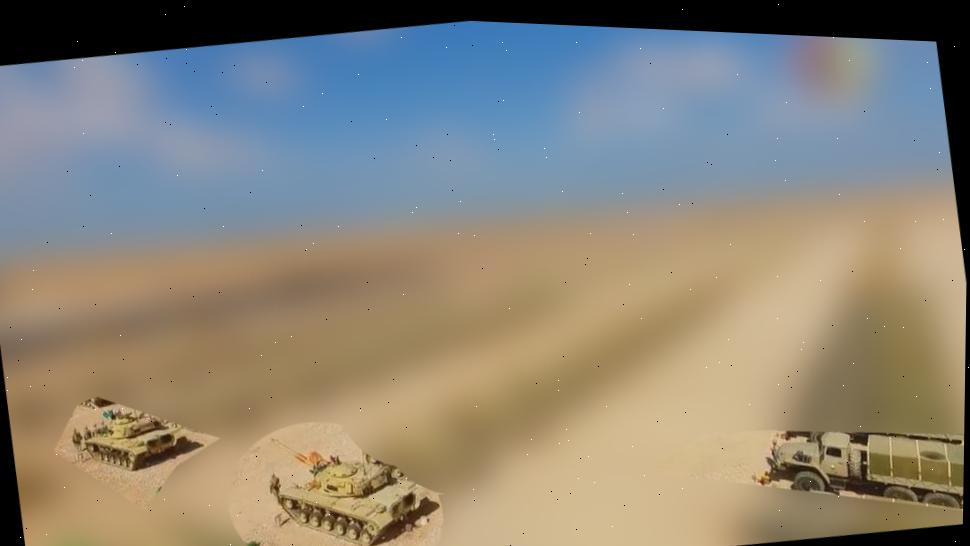tank: (258, 410, 443, 546), (65, 387, 195, 482)
truck: (753, 400, 965, 541)
